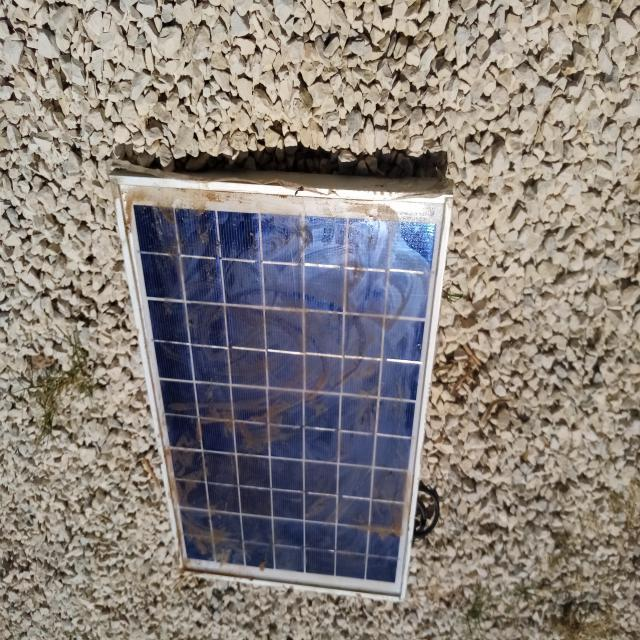faulty: (118, 176, 454, 599)
